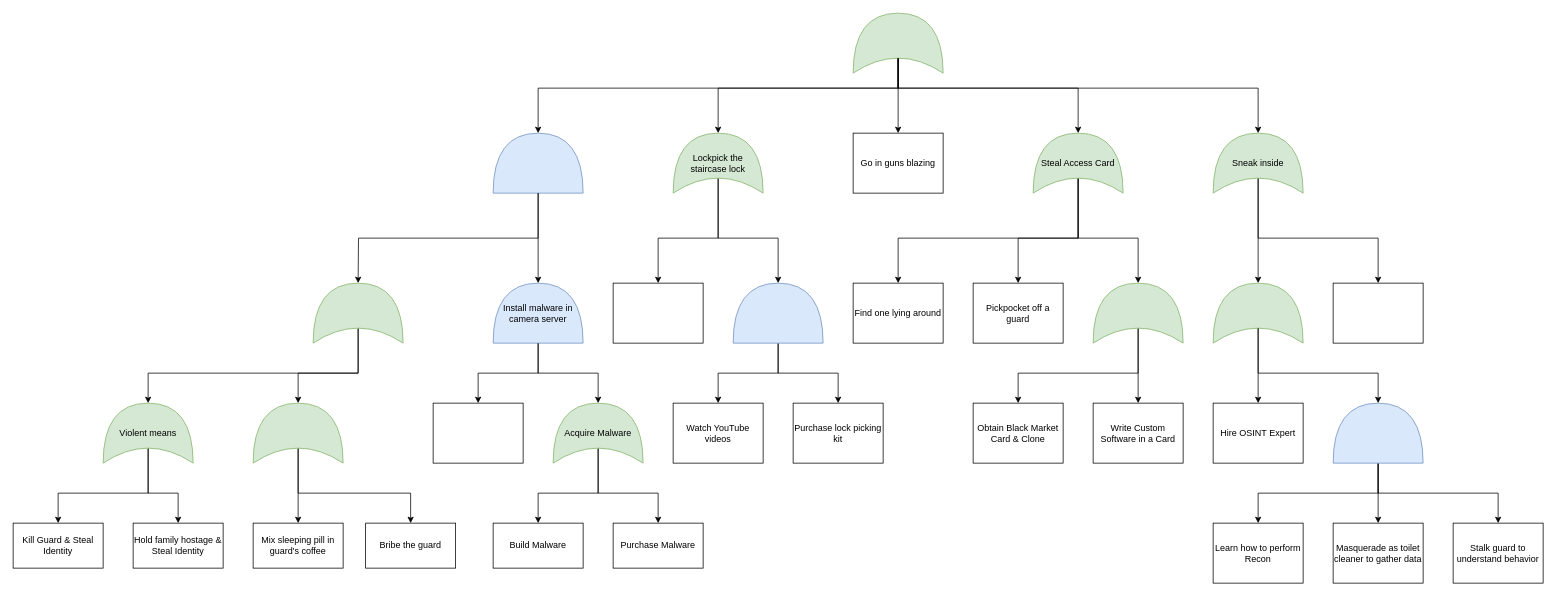
This 1556x596 diagram has some shape labels left out. The centre of each missing label's shape, as x and y in pixels:
"Forge Access Card" belongs at (x=1137, y=312).
"Gain Access to Camera Server" belongs at (x=477, y=432).
"Hire lock picking expert" belongs at (x=657, y=312).
"Learn Lockpicking" belongs at (x=777, y=312).
"Masquerade as Guard" belongs at (x=357, y=312).
"Non Violent means" belongs at (x=297, y=432).
"Obtain information through recon" belongs at (x=1257, y=312).
"Perform Recon" belongs at (x=1377, y=432).
"Physically Breach Server Room" belongs at (x=897, y=42).
"Use Light Refracting Invisible Suit" belongs at (x=1377, y=312).
"Walk into Server room" belongs at (x=537, y=162).
